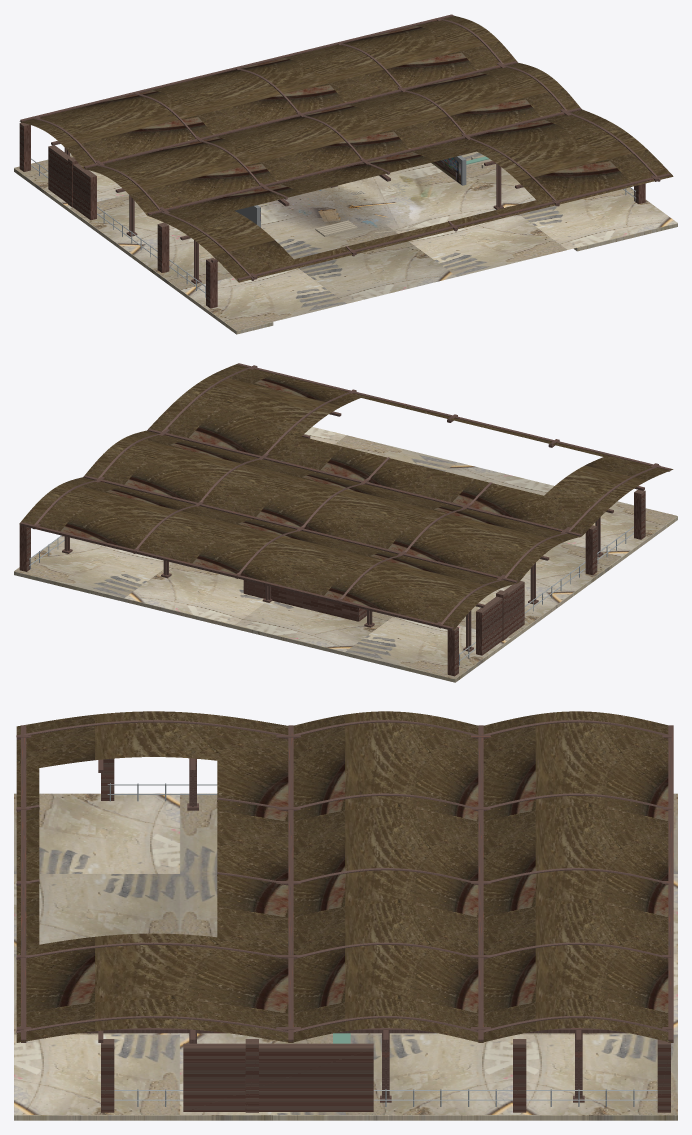
File: subsol_paul_geam_parter_v4_web.glb
3 views of the same model, one above another, from view 1: azimuth 30°, elevation 25°; view 2: azimuth 150°, elevation 25°; view 3: azimuth 270°, elevation 25° (orthographic). The views are drawn at different scales.
Parts seen in each view (by area): view 1: FLOOR_photo_overlay_site_aligned, ROOF_VAULT_0_CUT_FOR_PIT, ROOF_VAULT_1_CUT_FOR_PIT, ROOF_VAULT_2_CUT_FOR_PIT, BRICK_WALL_SECTION_LEFT, ROOF_CROSS_BEAM_4_0, ROOF_CROSS_BEAM_2_0, ROOF_CROSS_BEAM_7_0, ROOF_CROSS_BEAM_0_0, FACADE_PIER_-1_2, FLOOR_slab_south, FACADE_PIER_-1_3 (+2 smaller); view 2: FLOOR_photo_overlay_site_aligned, ROOF_VAULT_1_CUT_FOR_PIT, ROOF_VAULT_0_CUT_FOR_PIT, ROOF_VAULT_2_CUT_FOR_PIT, FLOOR_slab_south, BRICK_WALL_SECTION_LEFT, ROOF_CROSS_BEAM_0_0, CORE_BRICK_BACK, ROOF_CROSS_BEAM_2_0, ROOF_CROSS_BEAM_4_0, ROOF_CROSS_BEAM_7_0, FACADE_PIER_-1_2 (+3 smaller); view 3: FLOOR_photo_overlay_site_aligned, ROOF_VAULT_0_CUT_FOR_PIT, ROOF_VAULT_1_CUT_FOR_PIT, ROOF_VAULT_2_CUT_FOR_PIT, BRICK_WALL_SECTION_RIGHT, FLOOR_slab_south, ROOF_CROSS_BEAM_0_0, ROOF_CROSS_BEAM_2_0, ROOF_CROSS_BEAM_4_0, ROOF_CROSS_BEAM_7_0, ROOF_LONG_BEAM_4_0, FLOOR_slab_east (+8 smaller).
Part boxes in pixels (bbox=[...]): FLOOR_photo_overlay_site_aligned: bbox=[14, 151, 677, 330]; ROOF_VAULT_0_CUT_FOR_PIT: bbox=[19, 15, 517, 168]; ROOF_VAULT_1_CUT_FOR_PIT: bbox=[83, 62, 581, 215]; ROOF_VAULT_2_CUT_FOR_PIT: bbox=[147, 109, 673, 282]; BRICK_WALL_SECTION_LEFT: bbox=[48, 145, 96, 220]; ROOF_CROSS_BEAM_4_0: bbox=[147, 107, 581, 215]; ROOF_CROSS_BEAM_2_0: bbox=[84, 61, 517, 169]; ROOF_CROSS_BEAM_7_0: bbox=[237, 173, 670, 280]; ROOF_CROSS_BEAM_0_0: bbox=[20, 14, 453, 122]; FACADE_PIER_-1_2: bbox=[157, 222, 169, 272]; FLOOR_slab_south: bbox=[14, 168, 149, 270]; FACADE_PIER_-1_3: bbox=[206, 258, 217, 308]; FLOOR_photo_overlay_site_aligned: bbox=[14, 427, 677, 678]; ROOF_VAULT_1_CUT_FOR_PIT: bbox=[83, 430, 580, 582]; ROOF_VAULT_0_CUT_FOR_PIT: bbox=[19, 477, 517, 629]; ROOF_VAULT_2_CUT_FOR_PIT: bbox=[147, 363, 673, 536]; FLOOR_slab_south: bbox=[14, 571, 591, 682]; BRICK_WALL_SECTION_LEFT: bbox=[476, 581, 524, 655]; ROOF_CROSS_BEAM_0_0: bbox=[20, 522, 453, 630]; CORE_BRICK_BACK: bbox=[244, 580, 357, 621]; ROOF_CROSS_BEAM_2_0: bbox=[84, 475, 517, 582]; ROOF_CROSS_BEAM_4_0: bbox=[147, 429, 581, 537]; ROOF_CROSS_BEAM_7_0: bbox=[237, 363, 670, 471]; FACADE_PIER_-1_2: bbox=[585, 525, 597, 575]; FLOOR_photo_overlay_site_aligned: bbox=[14, 793, 677, 1114]; ROOF_VAULT_0_CUT_FOR_PIT: bbox=[481, 711, 672, 1042]; ROOF_VAULT_1_CUT_FOR_PIT: bbox=[291, 711, 480, 1042]; ROOF_VAULT_2_CUT_FOR_PIT: bbox=[16, 711, 290, 1042]; BRICK_WALL_SECTION_RIGHT: bbox=[183, 1043, 373, 1111]; FLOOR_slab_south: bbox=[273, 1115, 677, 1120]; ROOF_CROSS_BEAM_0_0: bbox=[668, 725, 673, 1042]; ROOF_CROSS_BEAM_2_0: bbox=[478, 725, 483, 1042]; ROOF_CROSS_BEAM_4_0: bbox=[288, 725, 293, 1042]; ROOF_CROSS_BEAM_7_0: bbox=[21, 725, 26, 1042]; ROOF_LONG_BEAM_4_0: bbox=[16, 1027, 672, 1033]; FLOOR_slab_east: bbox=[14, 1115, 272, 1120].
Size of the model in its own units: 27.6 by 3.65 by 24.1.
Materials: 18 (14 with a texture image).
